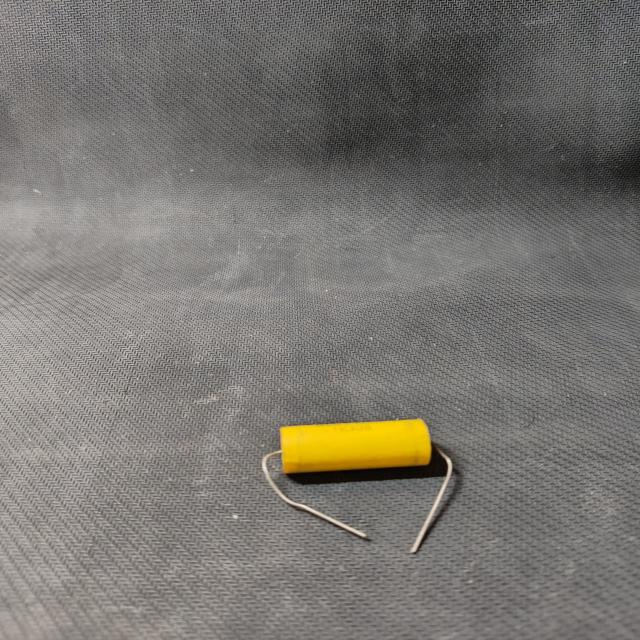capacitor: (246, 414, 481, 560)
